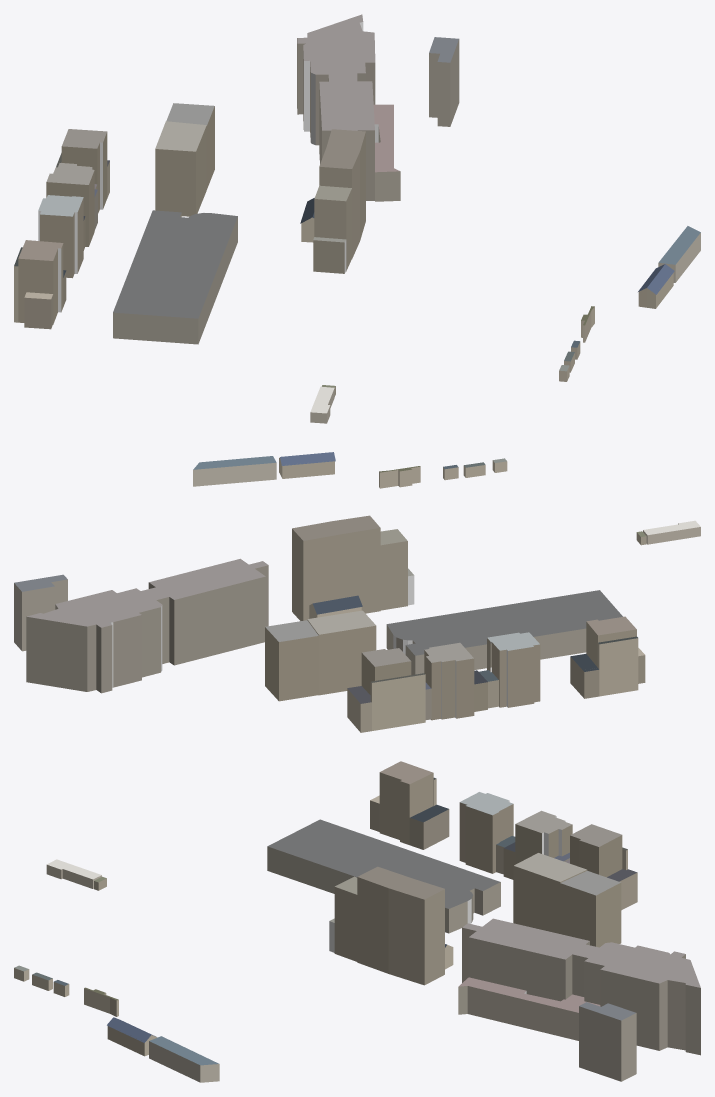
The picture shows the model from 3 angles, top to bottom: view 1: azimuth 30°, elevation 25°; view 2: azimuth 150°, elevation 25°; view 3: azimuth 270°, elevation 25°; orthographic projection. The views are drawn at different scales.
Visible parts, largest first — view 1: tuile; view 2: tuile; view 3: tuile.
Part boxes in pixels (x1,y1,x2,y2): tuile: (14, 14, 700, 423); tuile: (14, 452, 700, 732); tuile: (14, 761, 700, 1082).
Size of the model in its own units: 257 by 40.27 by 276.
